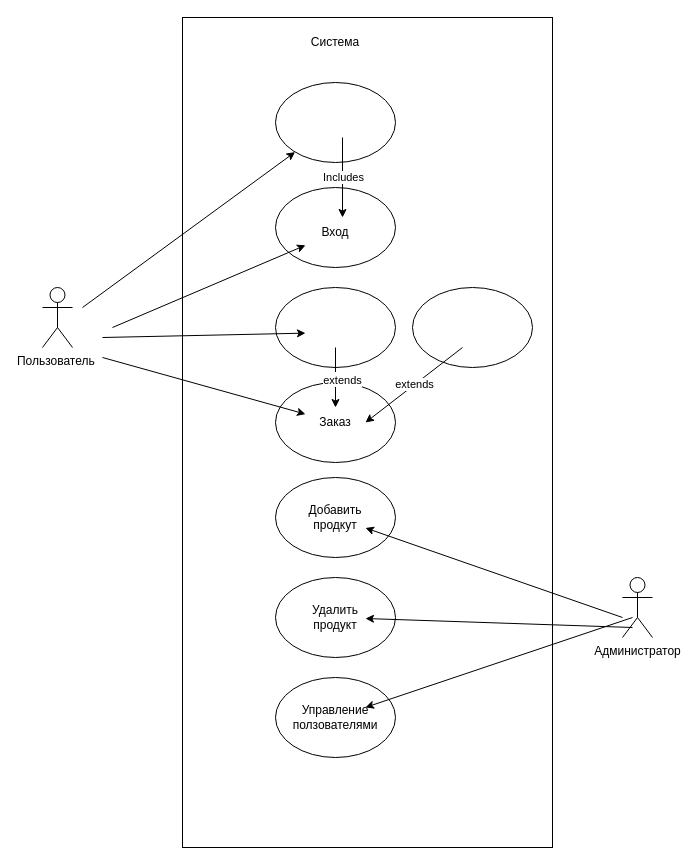
The diagram is 698 pixels wide and 865 high, and some of its shapes have lost their labels. The box of each missing label's shape, as (x1, y1, x2, y2) in pixels:
Поиск: (274, 286, 396, 368)
Применить скидку: (412, 286, 532, 368)
Регистрация: (274, 82, 396, 162)
